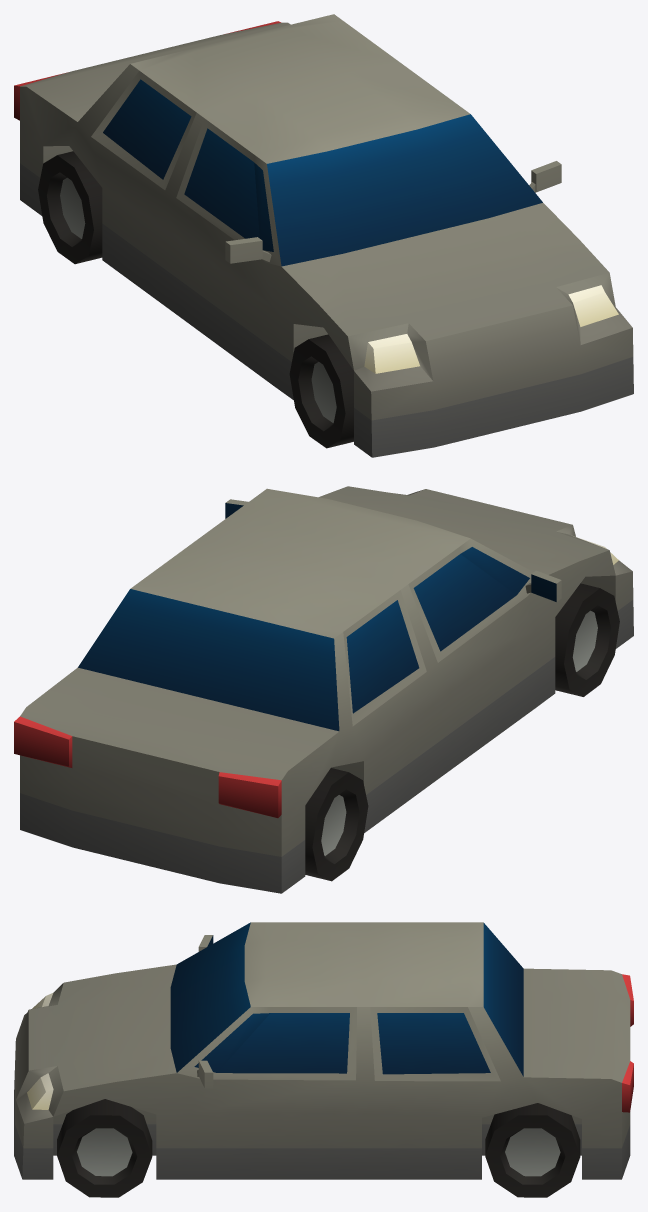
Rendered from Car.fbx.
3 views of the same model, one above another, from view 1: azimuth 30°, elevation 25°; view 2: azimuth 150°, elevation 25°; view 3: azimuth 270°, elevation 25° (orthographic). The views are drawn at different scales.
Visible parts, largest first — view 1: Car; view 2: Car; view 3: Car.
Boxes of the visible parts, x1,y1,x2,y2 form: Car: [14, 14, 633, 457]; Car: [14, 486, 633, 893]; Car: [14, 922, 633, 1197].
Size of the model in its own units: 236 by 145 by 450.
